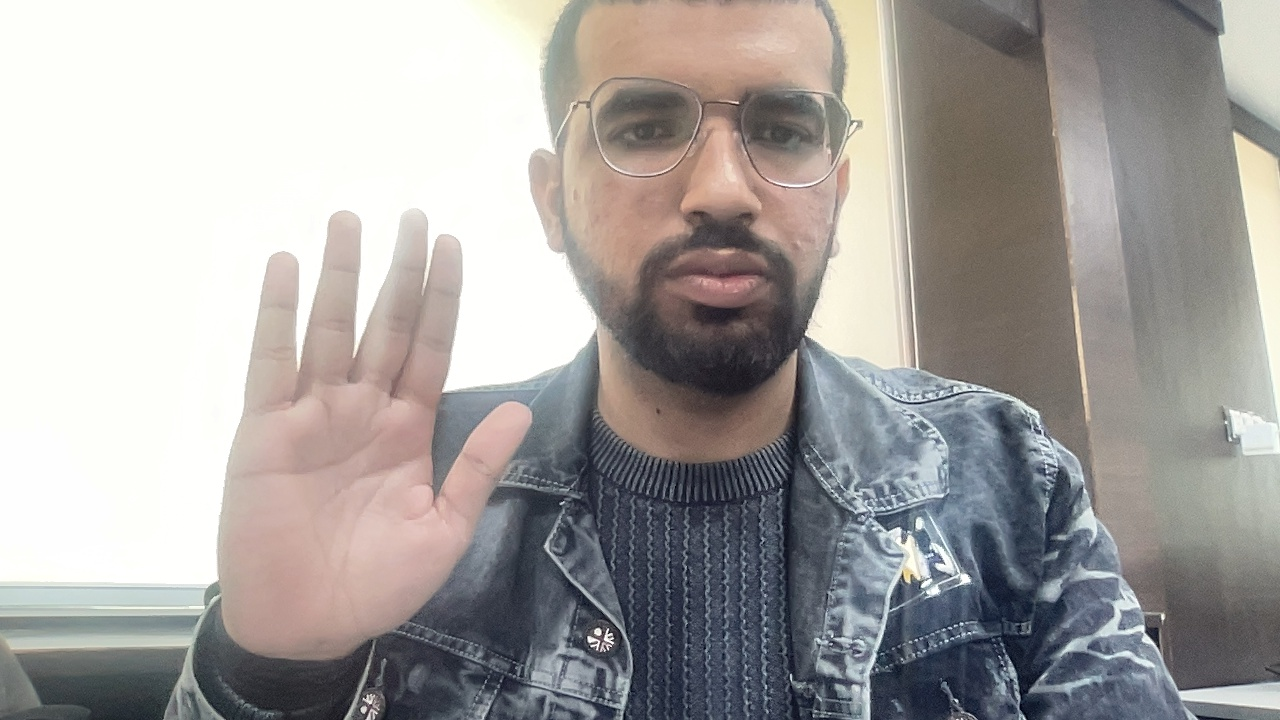Hello: (173, 147, 557, 670)
